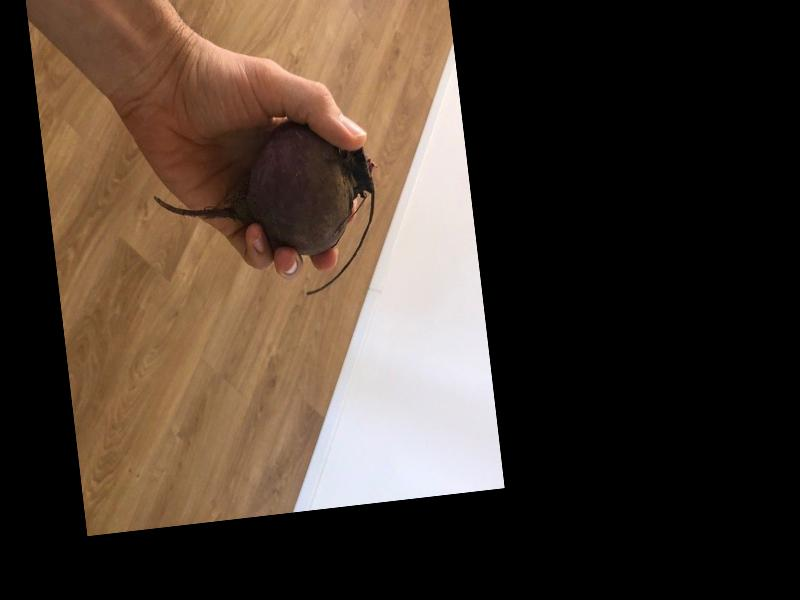Beet: (148, 112, 390, 313)
